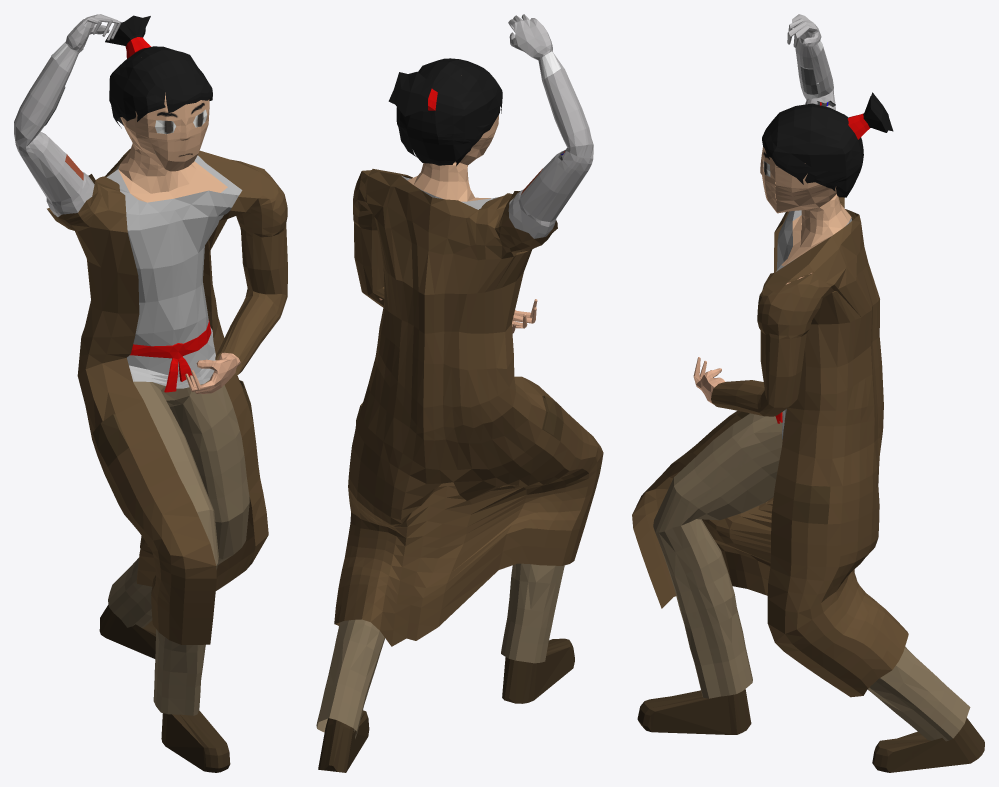
File: Special_Attack_000013.obj
3 views of the same model, side by side, from view 1: azimuth 30°, elevation 25°; view 2: azimuth 150°, elevation 25°; view 3: azimuth 270°, elevation 25° (orthographic). The views are drawn at different scales.
Visible parts, largest first — view 1: Hair_Cube.004; view 2: Hair_Cube.004; view 3: Hair_Cube.004.
Boxes of the visible parts, x1,y1,x2,y2 form: Hair_Cube.004: [14, 14, 287, 772]; Hair_Cube.004: [316, 14, 603, 772]; Hair_Cube.004: [632, 14, 984, 772].
Size of the model in its own units: 1.41 by 3.81 by 1.77.
